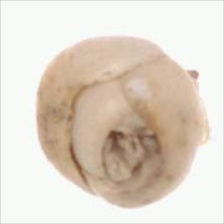L3: (65, 74, 167, 201)
L4: (36, 35, 209, 208)
